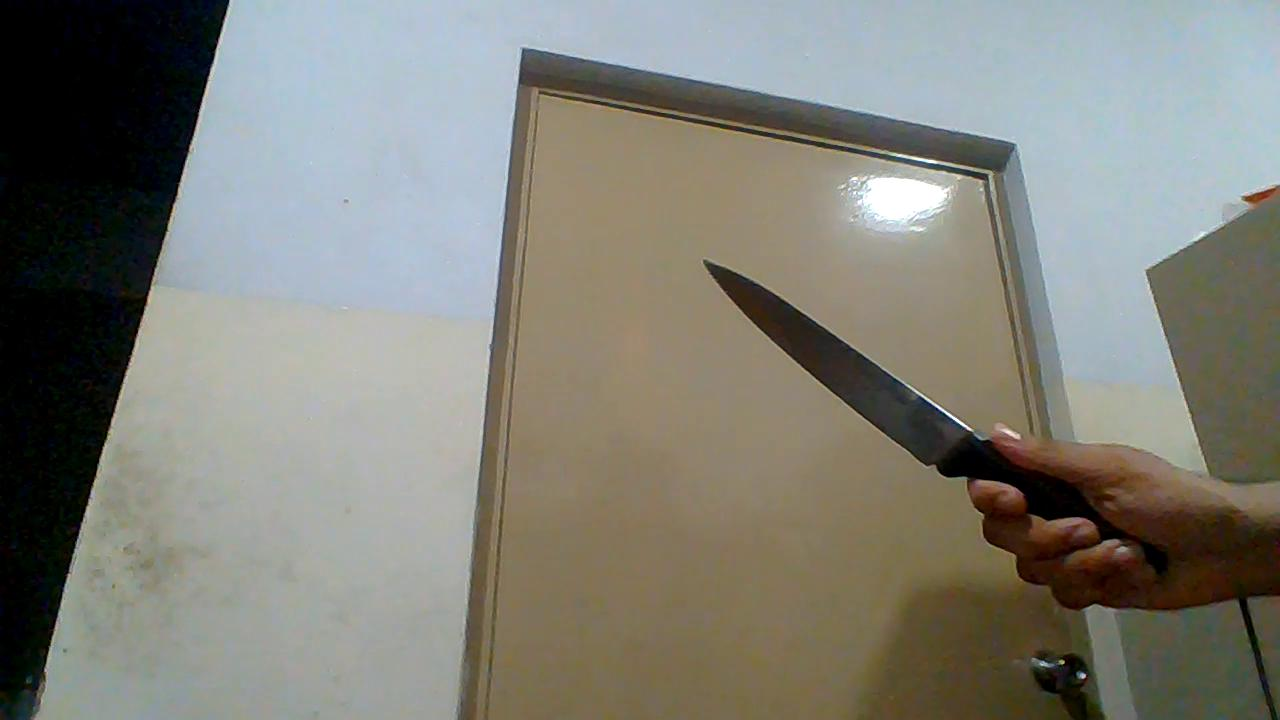weapon: (697, 256, 1096, 526)
